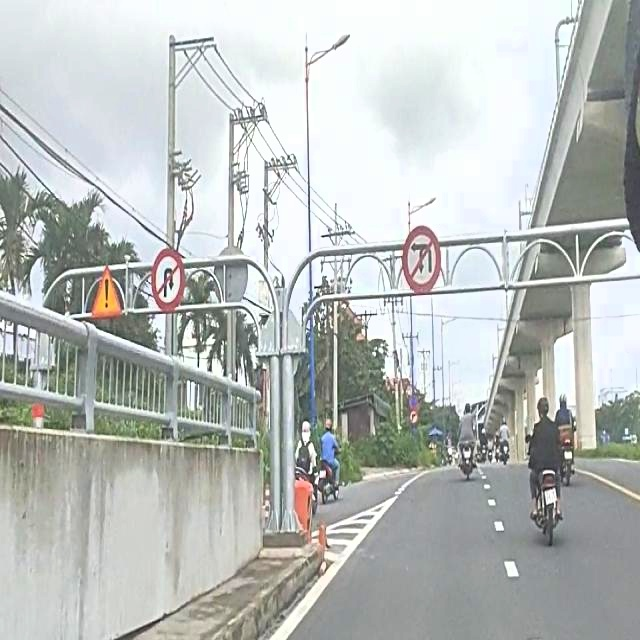P.123a: (409, 410, 419, 424)
P.124a*: (150, 248, 184, 312)
P.124d: (403, 225, 441, 295)
P.130: (408, 392, 418, 408)
